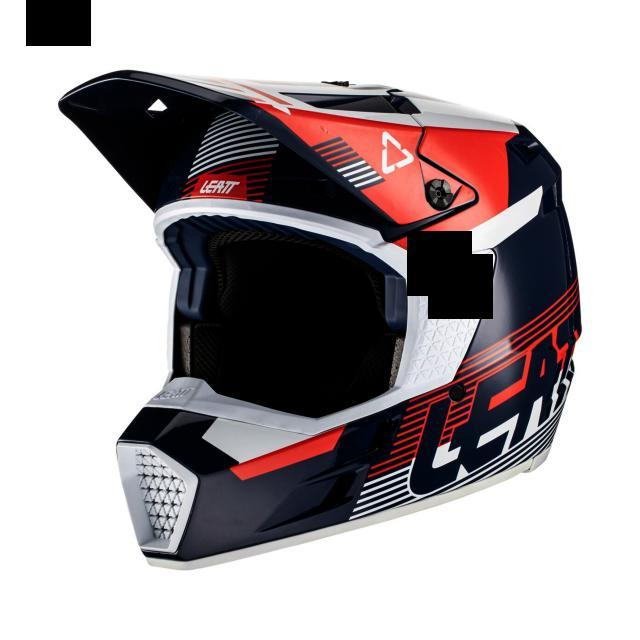helmet: (43, 53, 598, 597)
